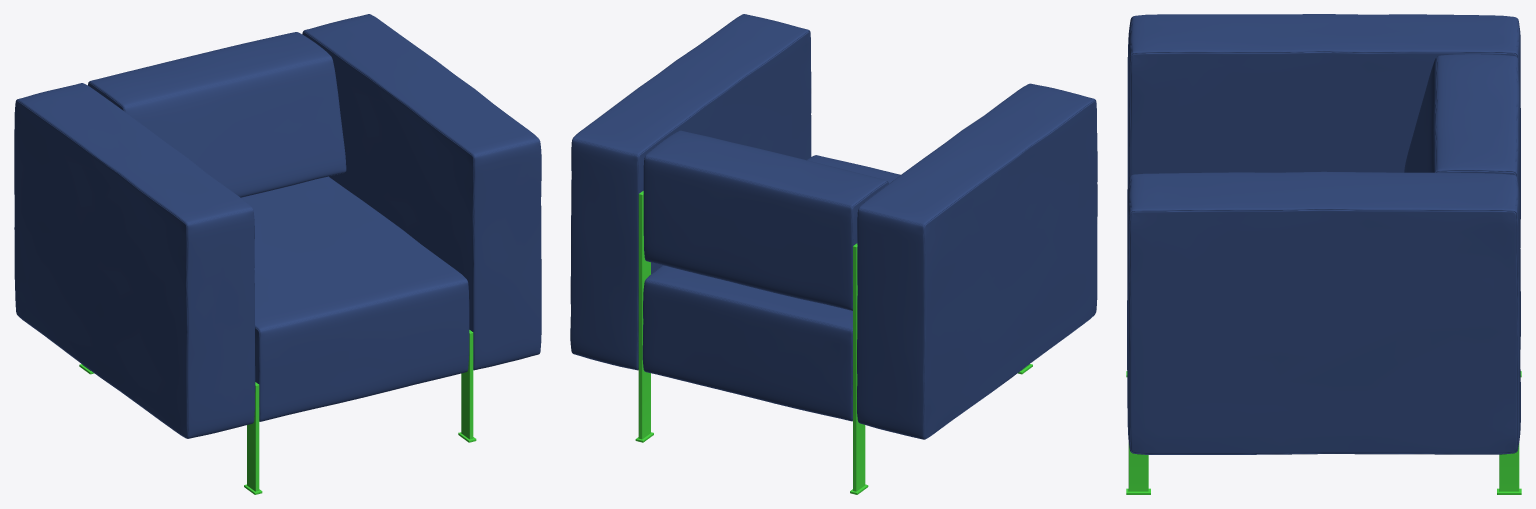
Rendered from SM_Ledersessel.fbx.
The picture shows the model from 3 angles, left to right: view 1: azimuth 30°, elevation 25°; view 2: azimuth 150°, elevation 25°; view 3: azimuth 270°, elevation 25°; orthographic projection. The views are drawn at different scales.
Parts seen in each view (by area): view 1: SM_Ledersessel; view 2: SM_Ledersessel; view 3: SM_Ledersessel.
Part boxes in pixels (left/top/right/bottom): SM_Ledersessel: left=14, top=14, right=541, bottom=494; SM_Ledersessel: left=570, top=14, right=1097, bottom=494; SM_Ledersessel: left=1126, top=14, right=1521, bottom=494.
Size of the model in its own units: 93.63 by 72.39 by 80.
